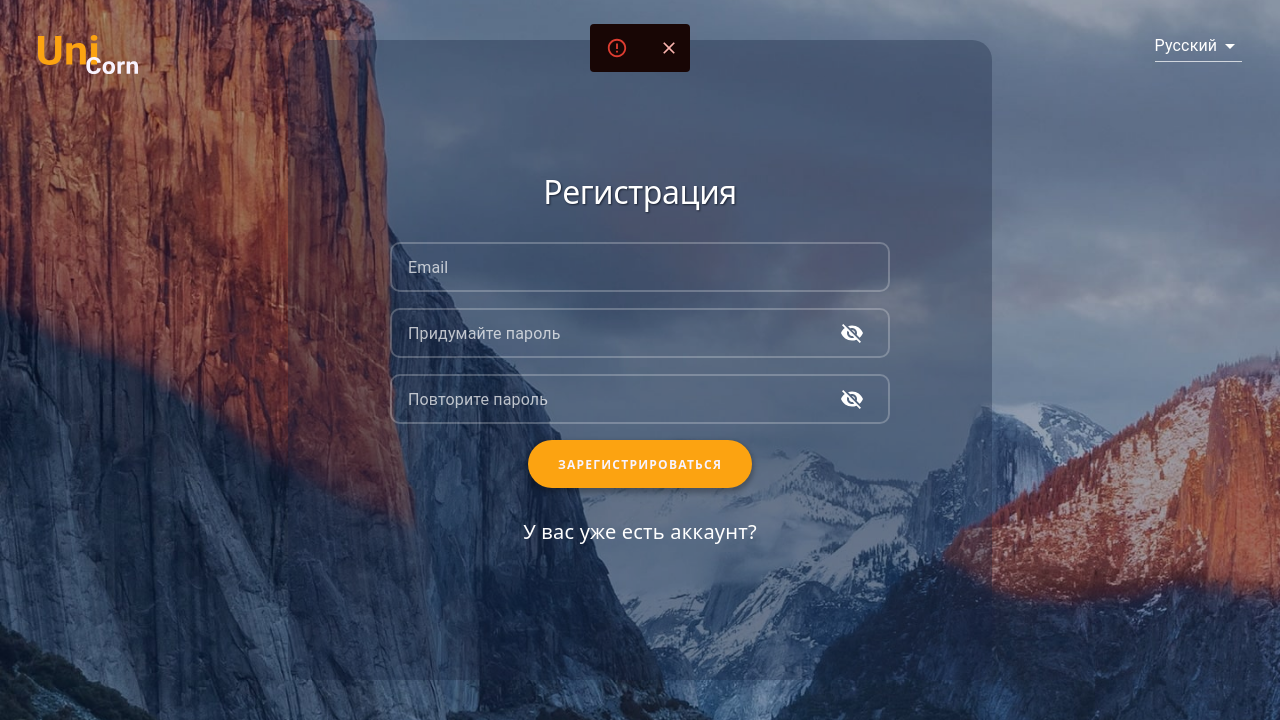
Test: Register page › This happens when you enter without email
The width and height of the screenshot is (1280, 720).
Expected: the element with test id "register-email" is shown, x1=390 y1=242 x2=890 y2=292
Type "dummy@dummy" into the element with test id "password1" at (640, 333), box x1=390 y1=308 x2=890 y2=358
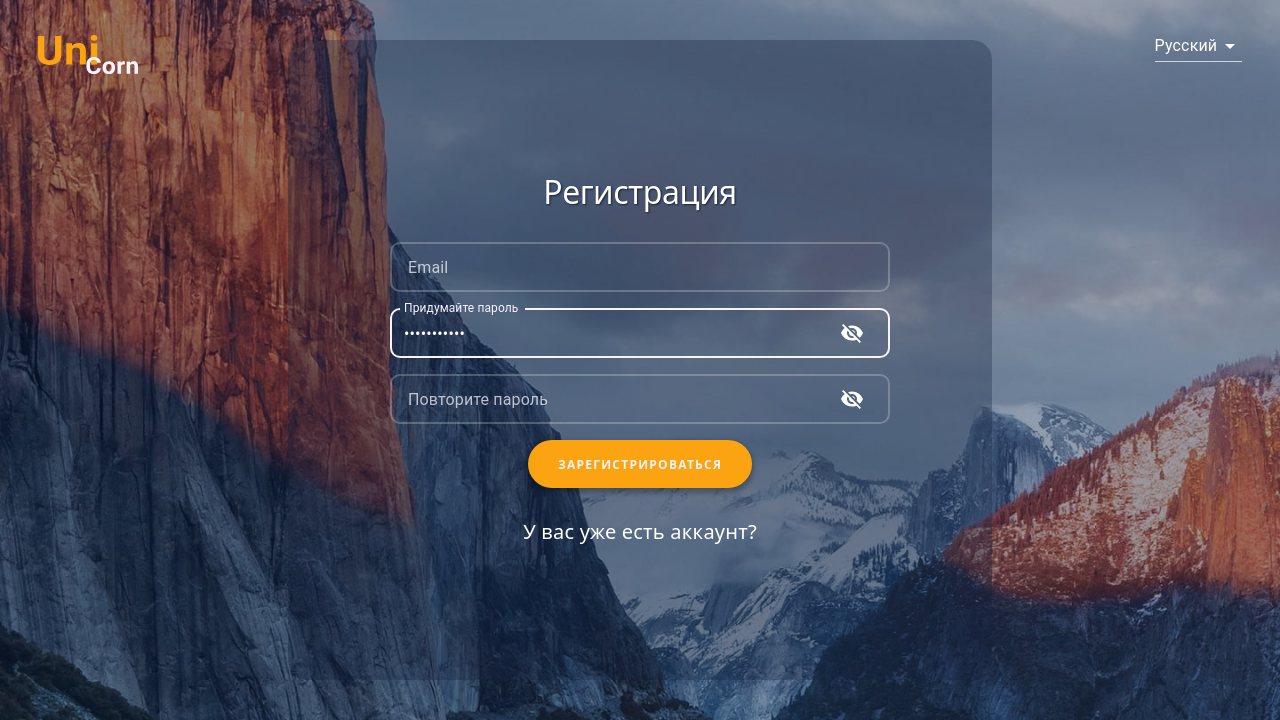
Type "dummy@dummy" into the element with test id "password2" at (640, 399), box x1=390 y1=374 x2=890 y2=424
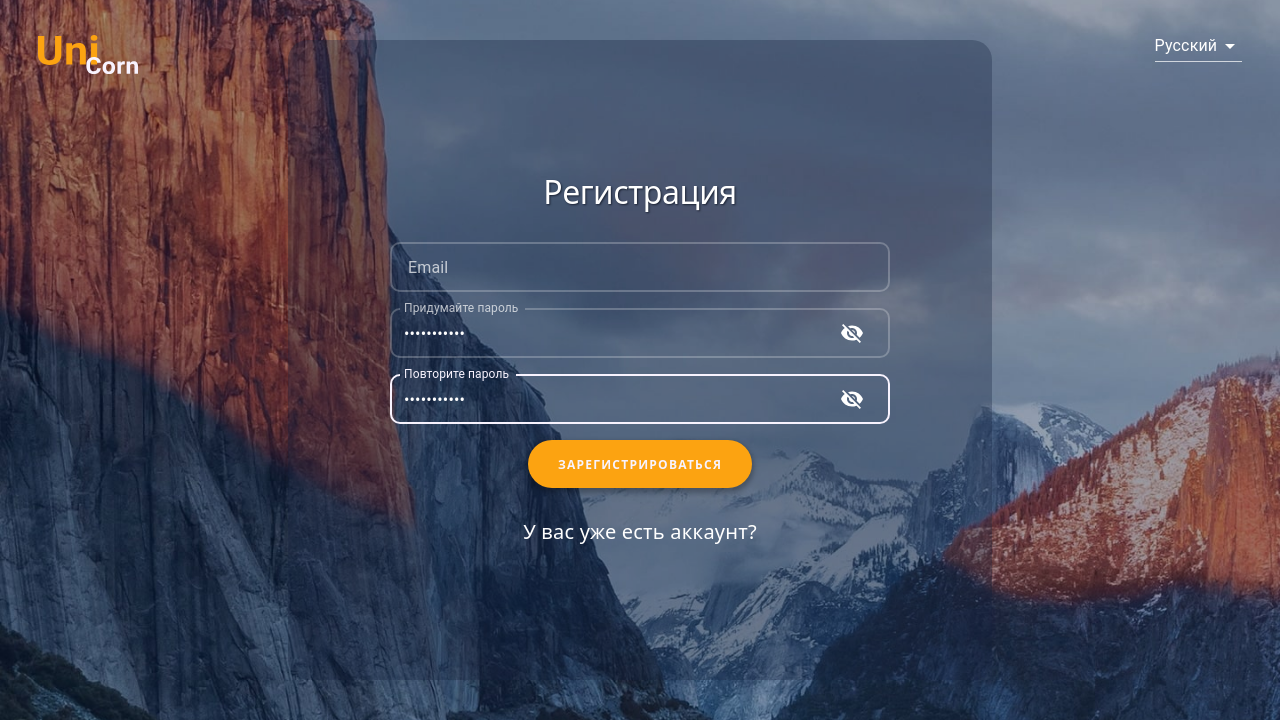
Click the button with test id "register-button" at (640, 464), box x1=528 y1=440 x2=752 y2=488
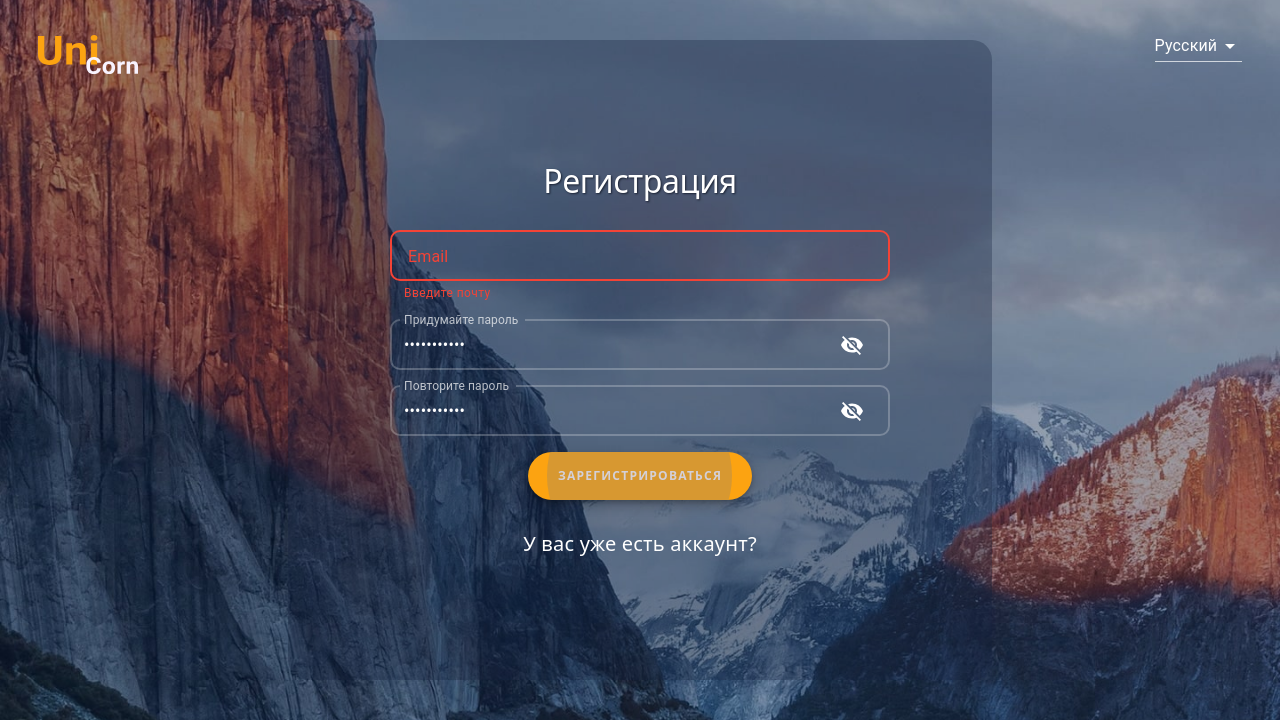
Now the text "Введите почту" is shown, box x1=404 y1=286 x2=490 y2=300
